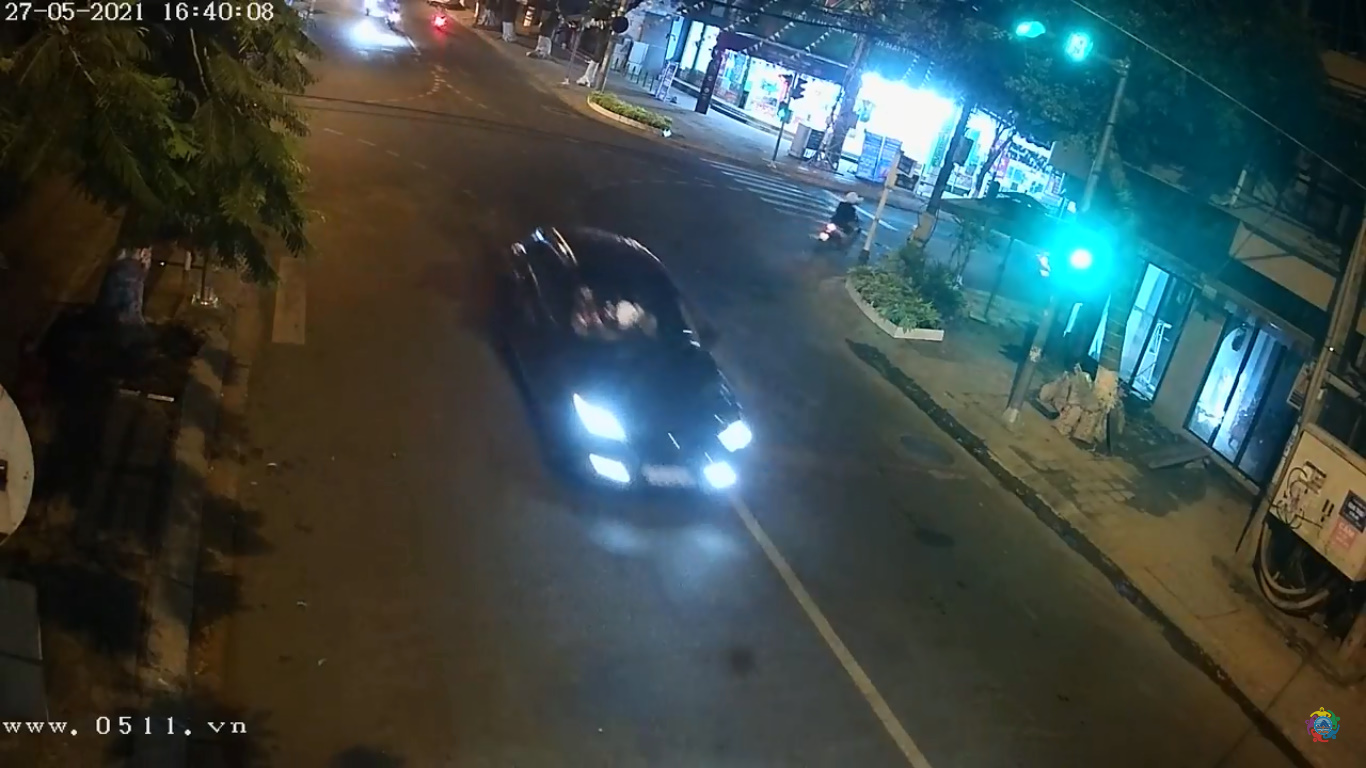car: (487, 212, 760, 527)
